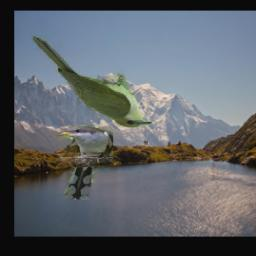Cuckoo: (32, 34, 153, 128), (56, 125, 114, 200)
